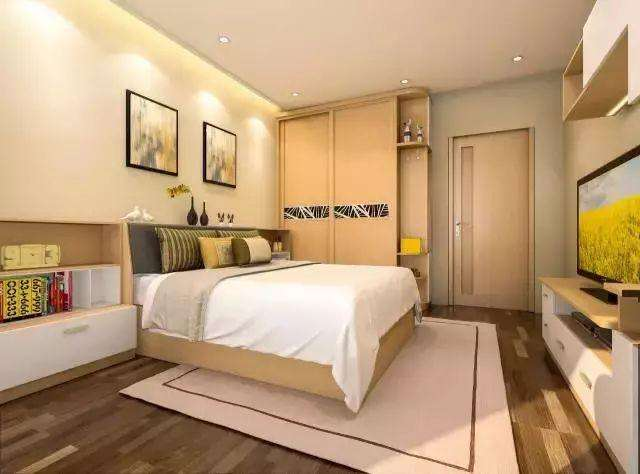床: (133, 260, 415, 406)
枕头: (151, 233, 275, 269)
灯: (511, 52, 529, 66), (215, 34, 233, 46), (399, 76, 415, 87), (288, 90, 303, 100)
